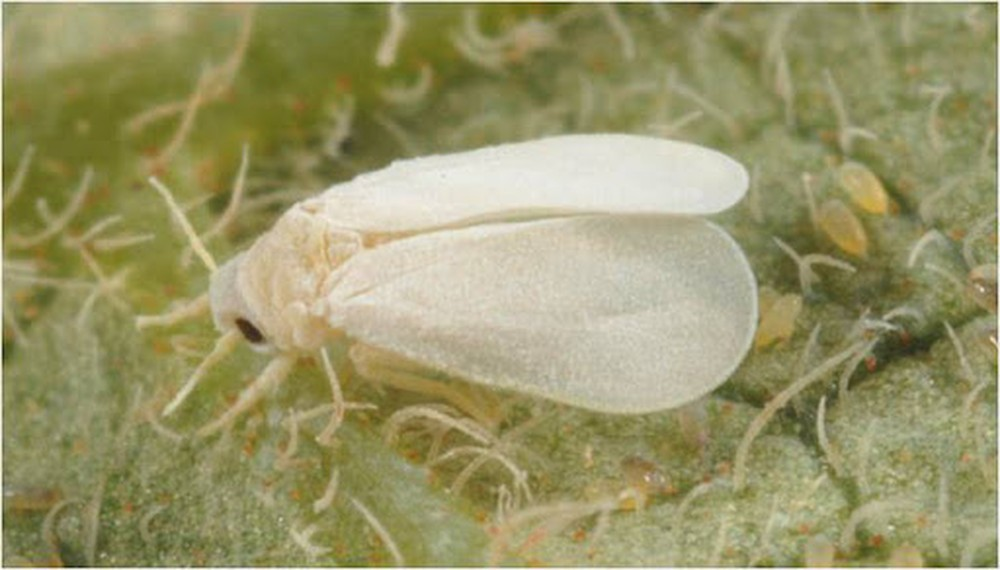Mosca Blanca: (134, 117, 781, 450)
